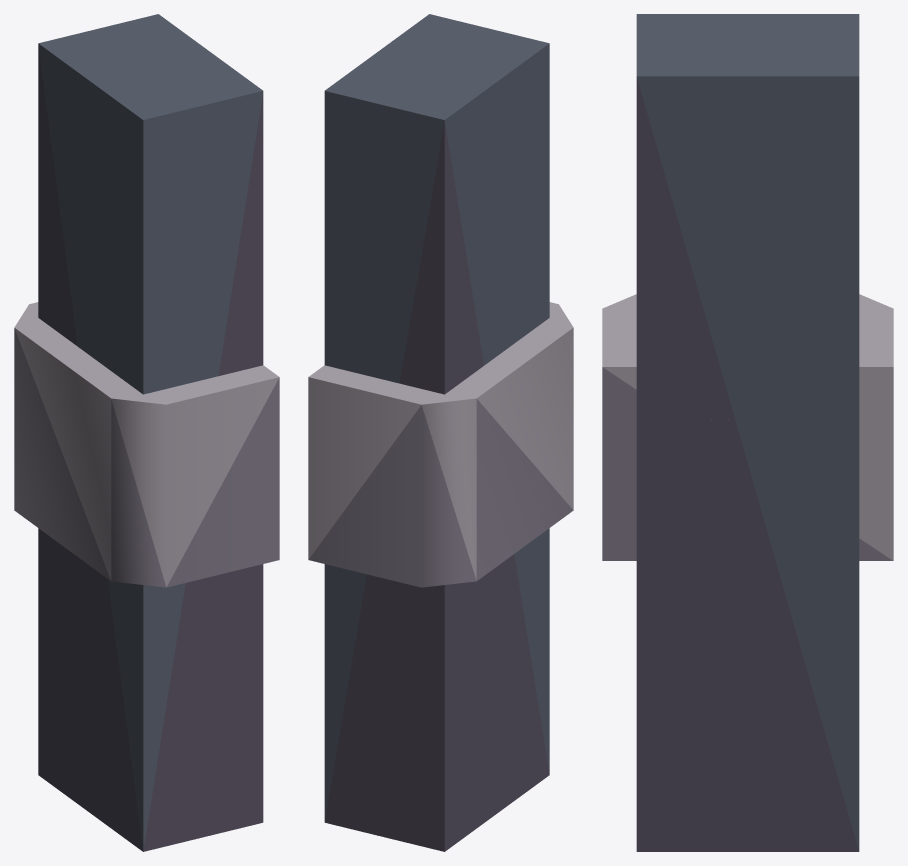
The picture shows the model from 3 angles, left to right: view 1: azimuth 30°, elevation 25°; view 2: azimuth 150°, elevation 25°; view 3: azimuth 270°, elevation 25°; orthographic projection. The views are drawn at different scales.
Visible parts, largest first — view 1: model; view 2: model; view 3: model.
Boxes of the visible parts, x1,y1,x2,y2 form: model: [14, 14, 279, 851]; model: [308, 14, 573, 851]; model: [602, 14, 893, 851].
Bounding box in the file's own units: 0.4238 × 2 × 0.68.
